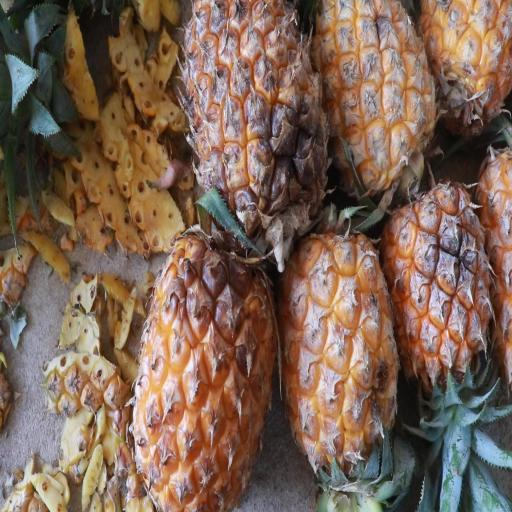Pineapple - v8 v1: (132, 221, 280, 512), (180, 0, 330, 245), (278, 216, 400, 474), (320, 0, 441, 205), (382, 175, 495, 387), (415, 0, 512, 148)
